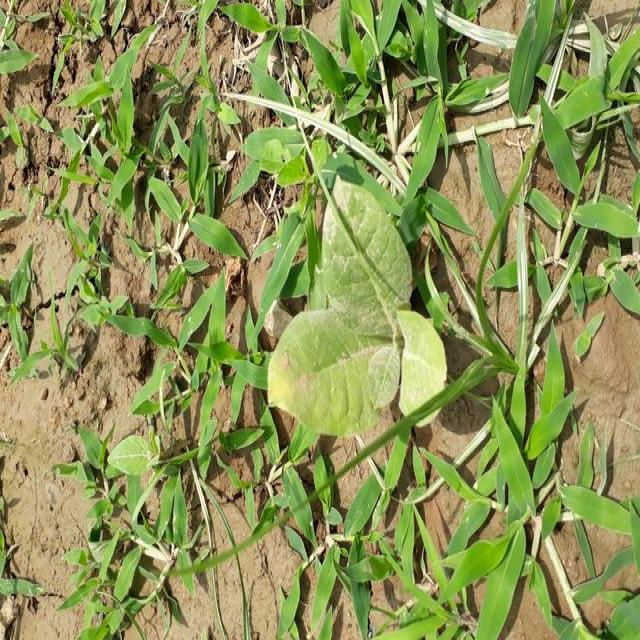crop: (256, 165, 438, 461), (452, 442, 453, 443)
